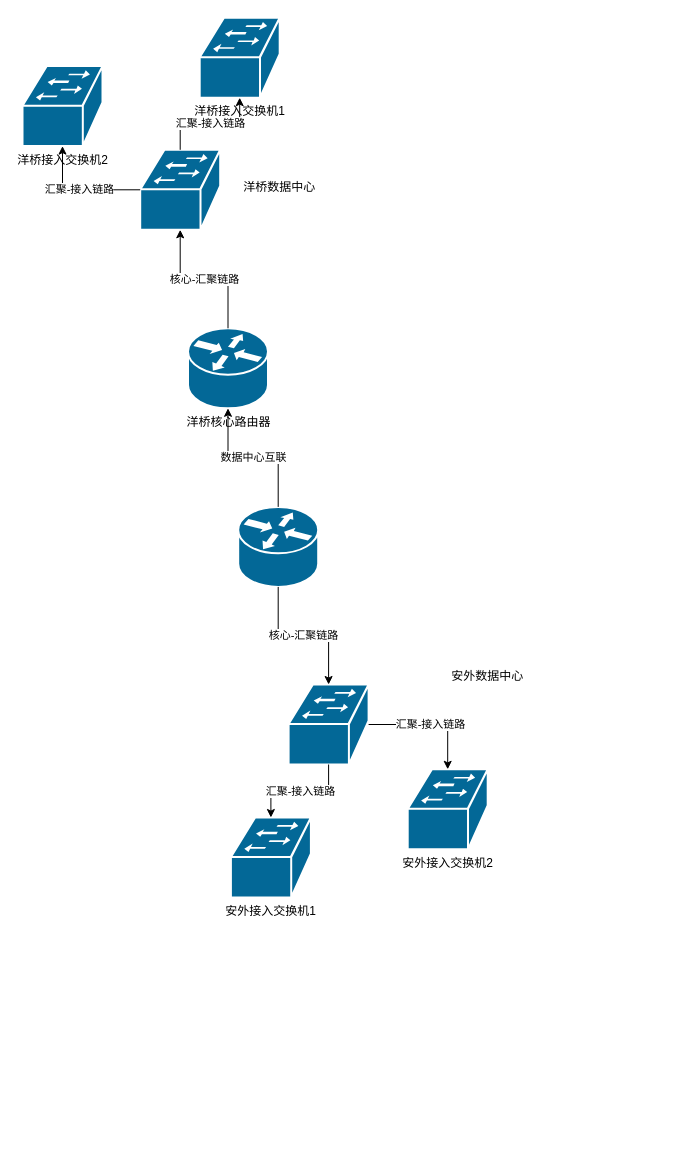
Image size: 673x1151. Some labels were removed from this diagram. The shapes that lost their labels are listed below. From the top down, each one's centre as x and y in pixels, then its label:
At (x=180, y=189): "洋桥汇聚交换机".
At (x=278, y=546): "安外核心路由器".
At (x=328, y=724): "安外汇聚交换机".
